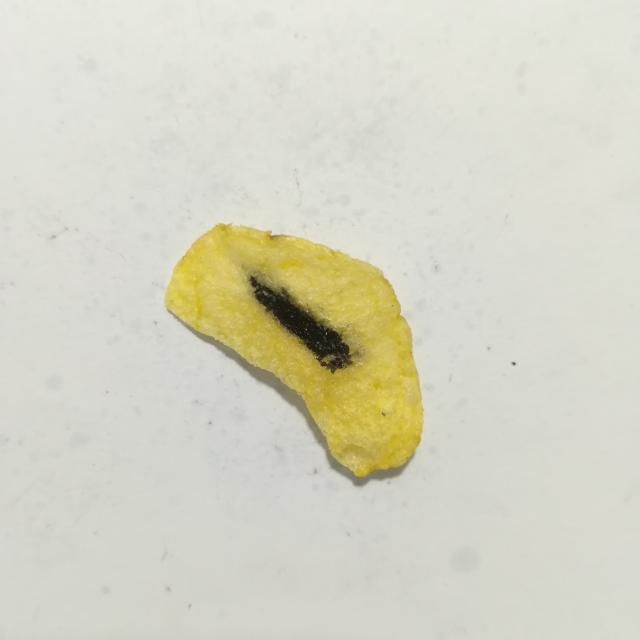chip: (165, 224, 423, 476)
damaged: (250, 276, 352, 373)
semi-damaged: (238, 261, 364, 365)
